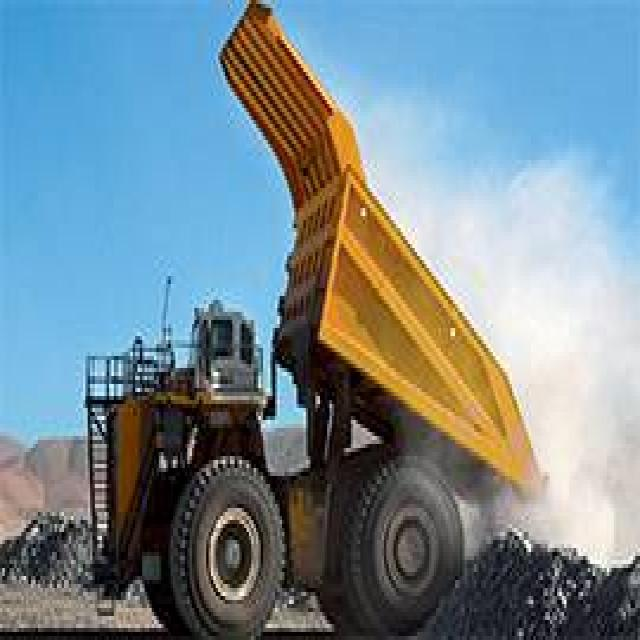dump_truck: (76, 4, 552, 636)
